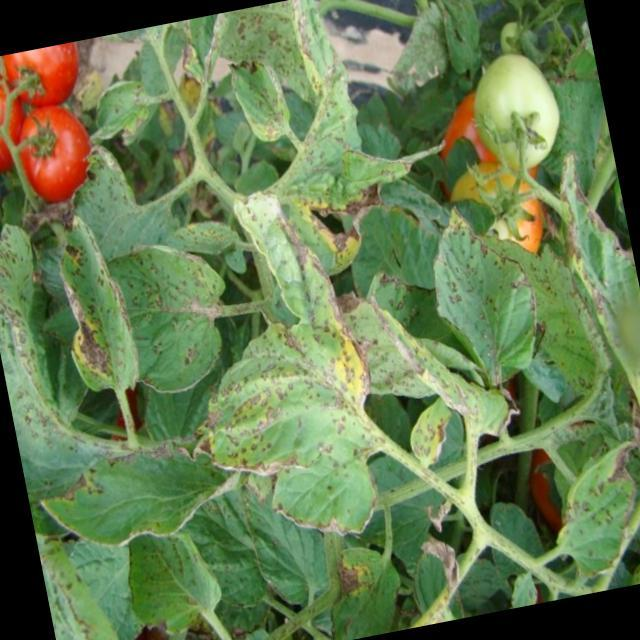Tomato bacterial spot leaf: (151, 167, 407, 568), (251, 0, 392, 236), (410, 185, 552, 413), (29, 420, 249, 560), (106, 228, 247, 410), (40, 196, 150, 407), (226, 44, 301, 146)
